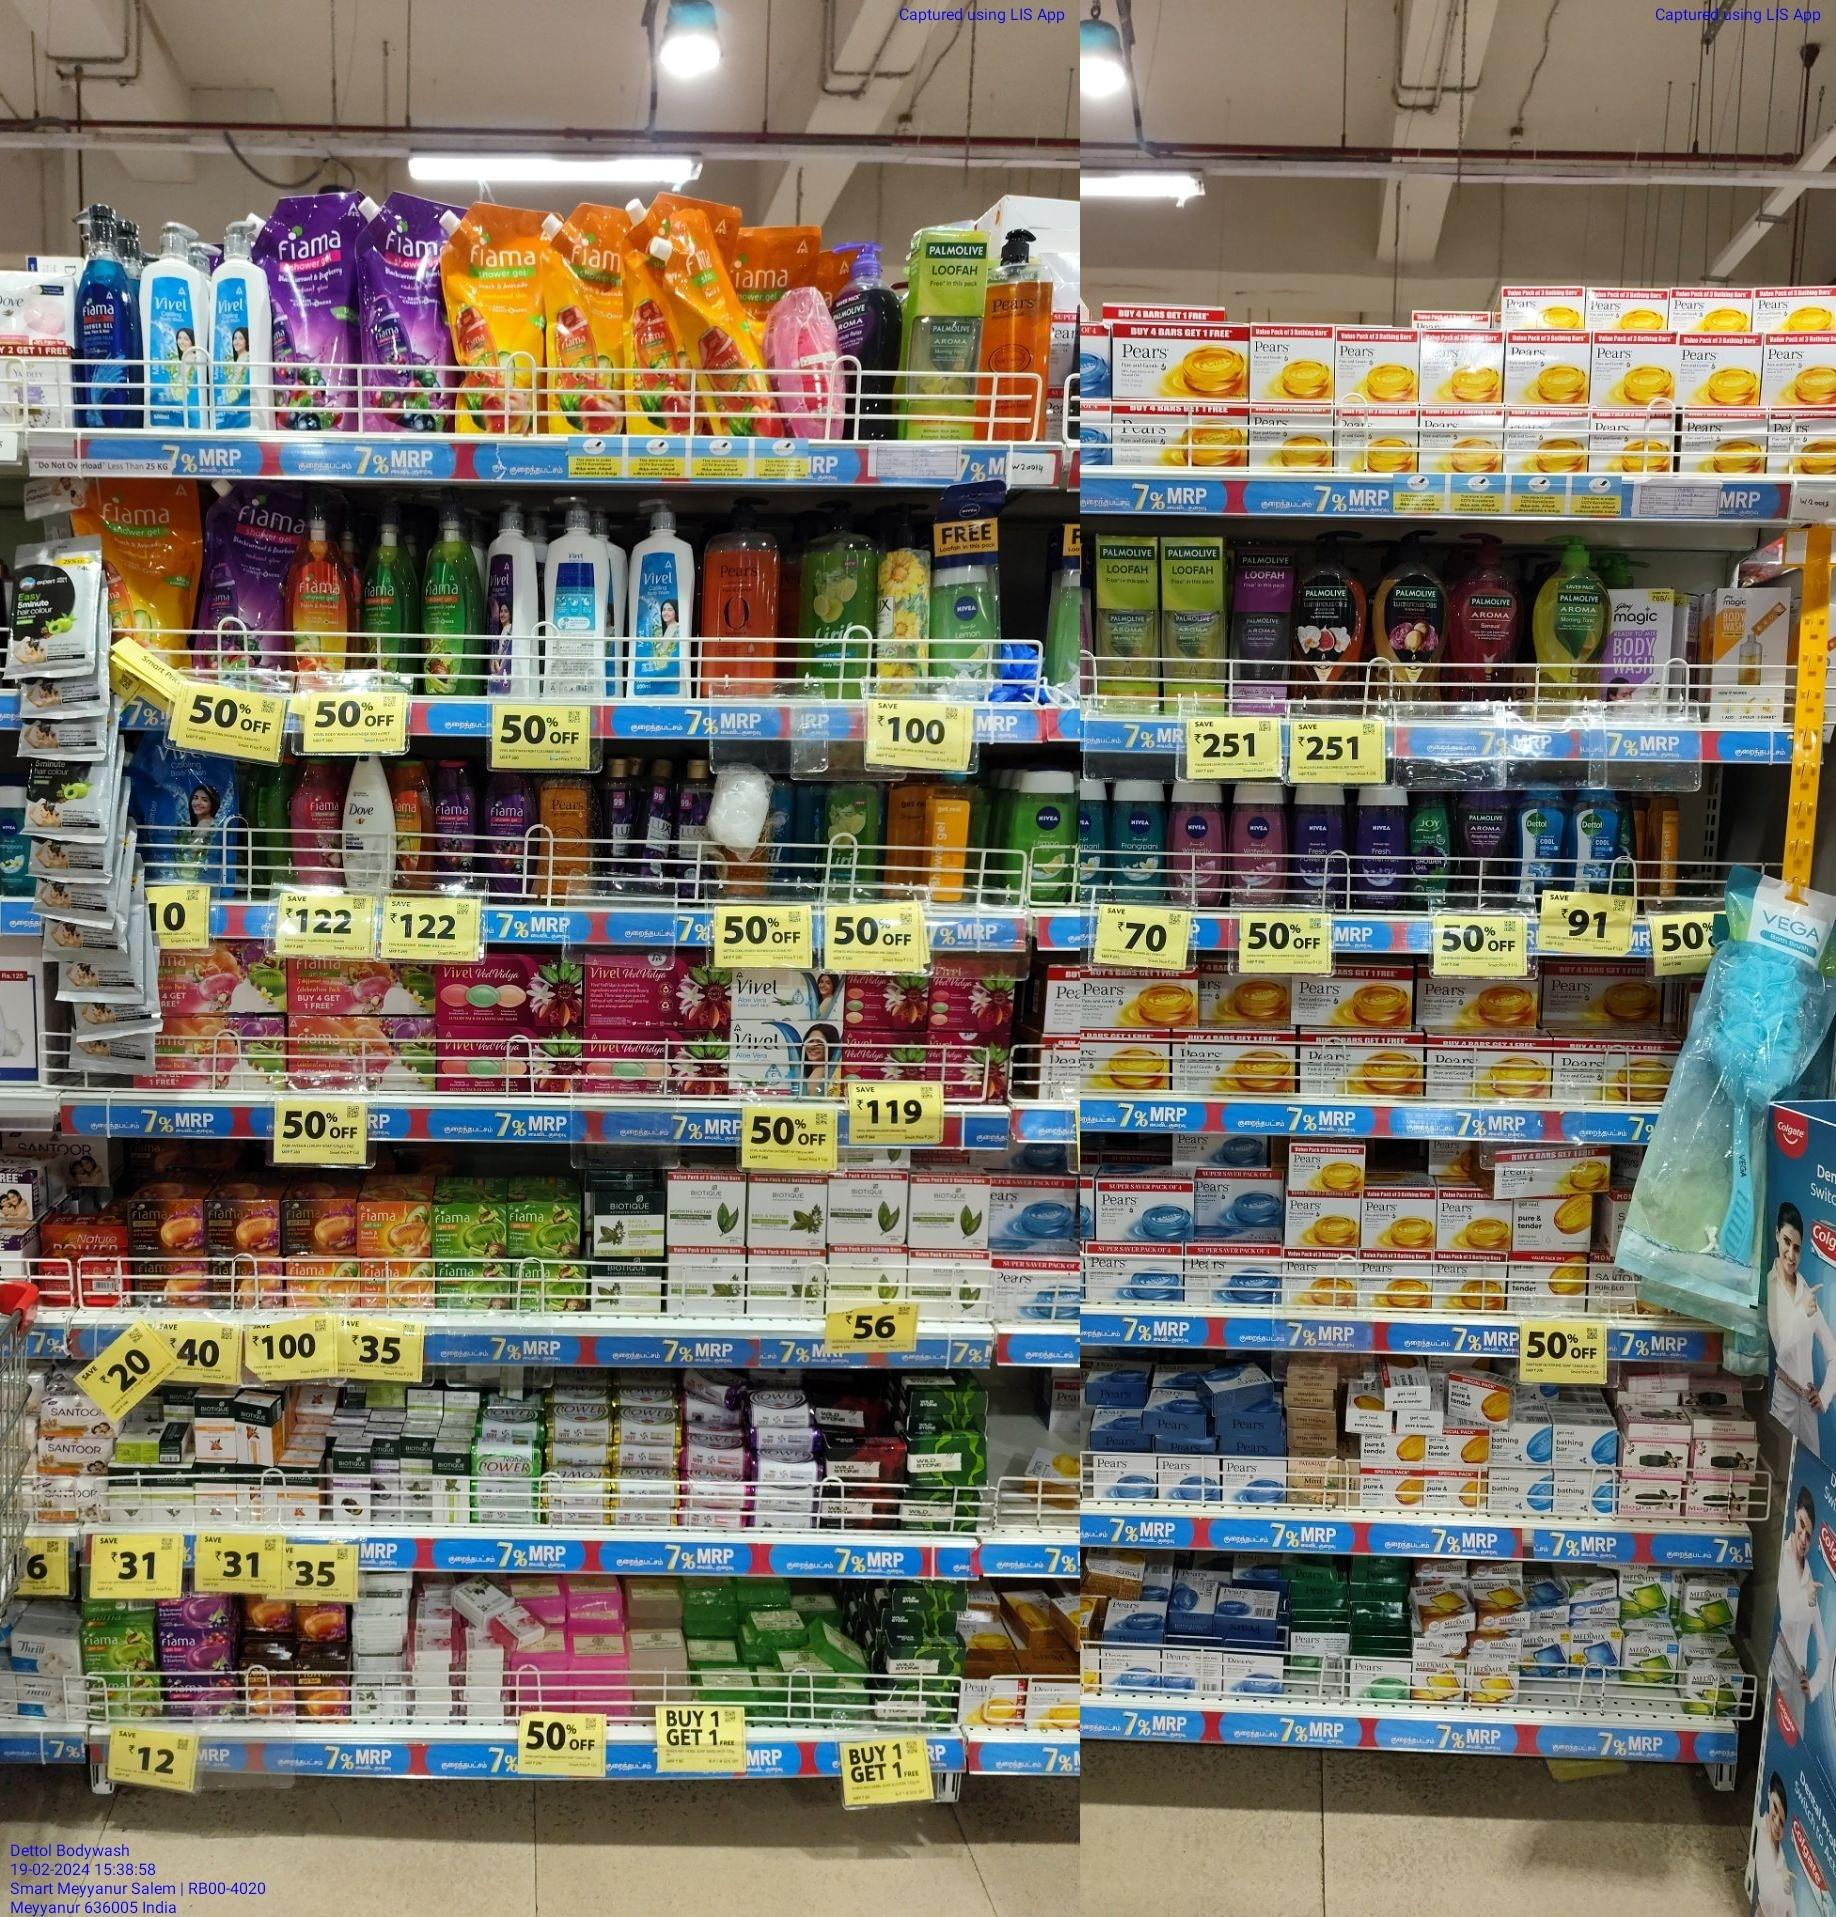Dettol_Bodywash_Cool: (1514, 789, 1574, 900), (1572, 789, 1622, 892)
Dove_Deep_Moisture_Body_Wash_250ML: (342, 757, 397, 893)
Joy_Shower_Gel_Mint_and_Eucalyptus_250ML: (1410, 791, 1451, 907)
Nivea_Shower_Gel_Frangipani_and_Oil_250ML: (1109, 780, 1165, 904)
Nivea_Shower_Gel_Fresh_Powerfruit_250ML: (1352, 786, 1412, 911), (1292, 787, 1348, 907)
Nivea_Shower_Gel_Lemon_and_Oil_250ML: (1008, 767, 1076, 904)
Nivea_Shower_Gel_Waterlily_and_Oil_250ML: (1165, 782, 1227, 905), (1227, 784, 1287, 904)
Palmolive_Aroma_Relax_250ML: (1453, 789, 1513, 907)
